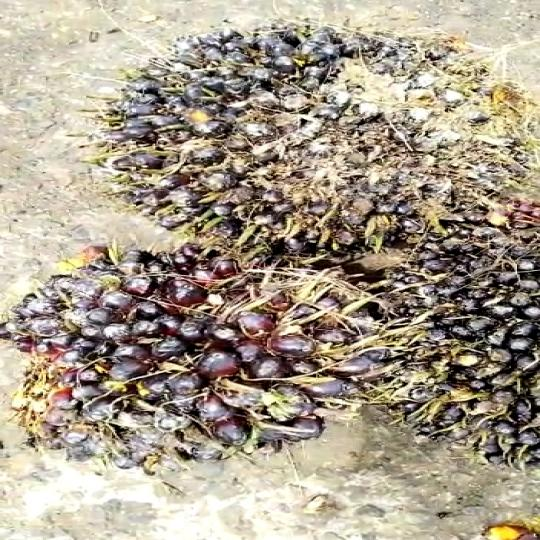mentah: (1, 237, 401, 480), (105, 26, 526, 247), (377, 234, 540, 476)
